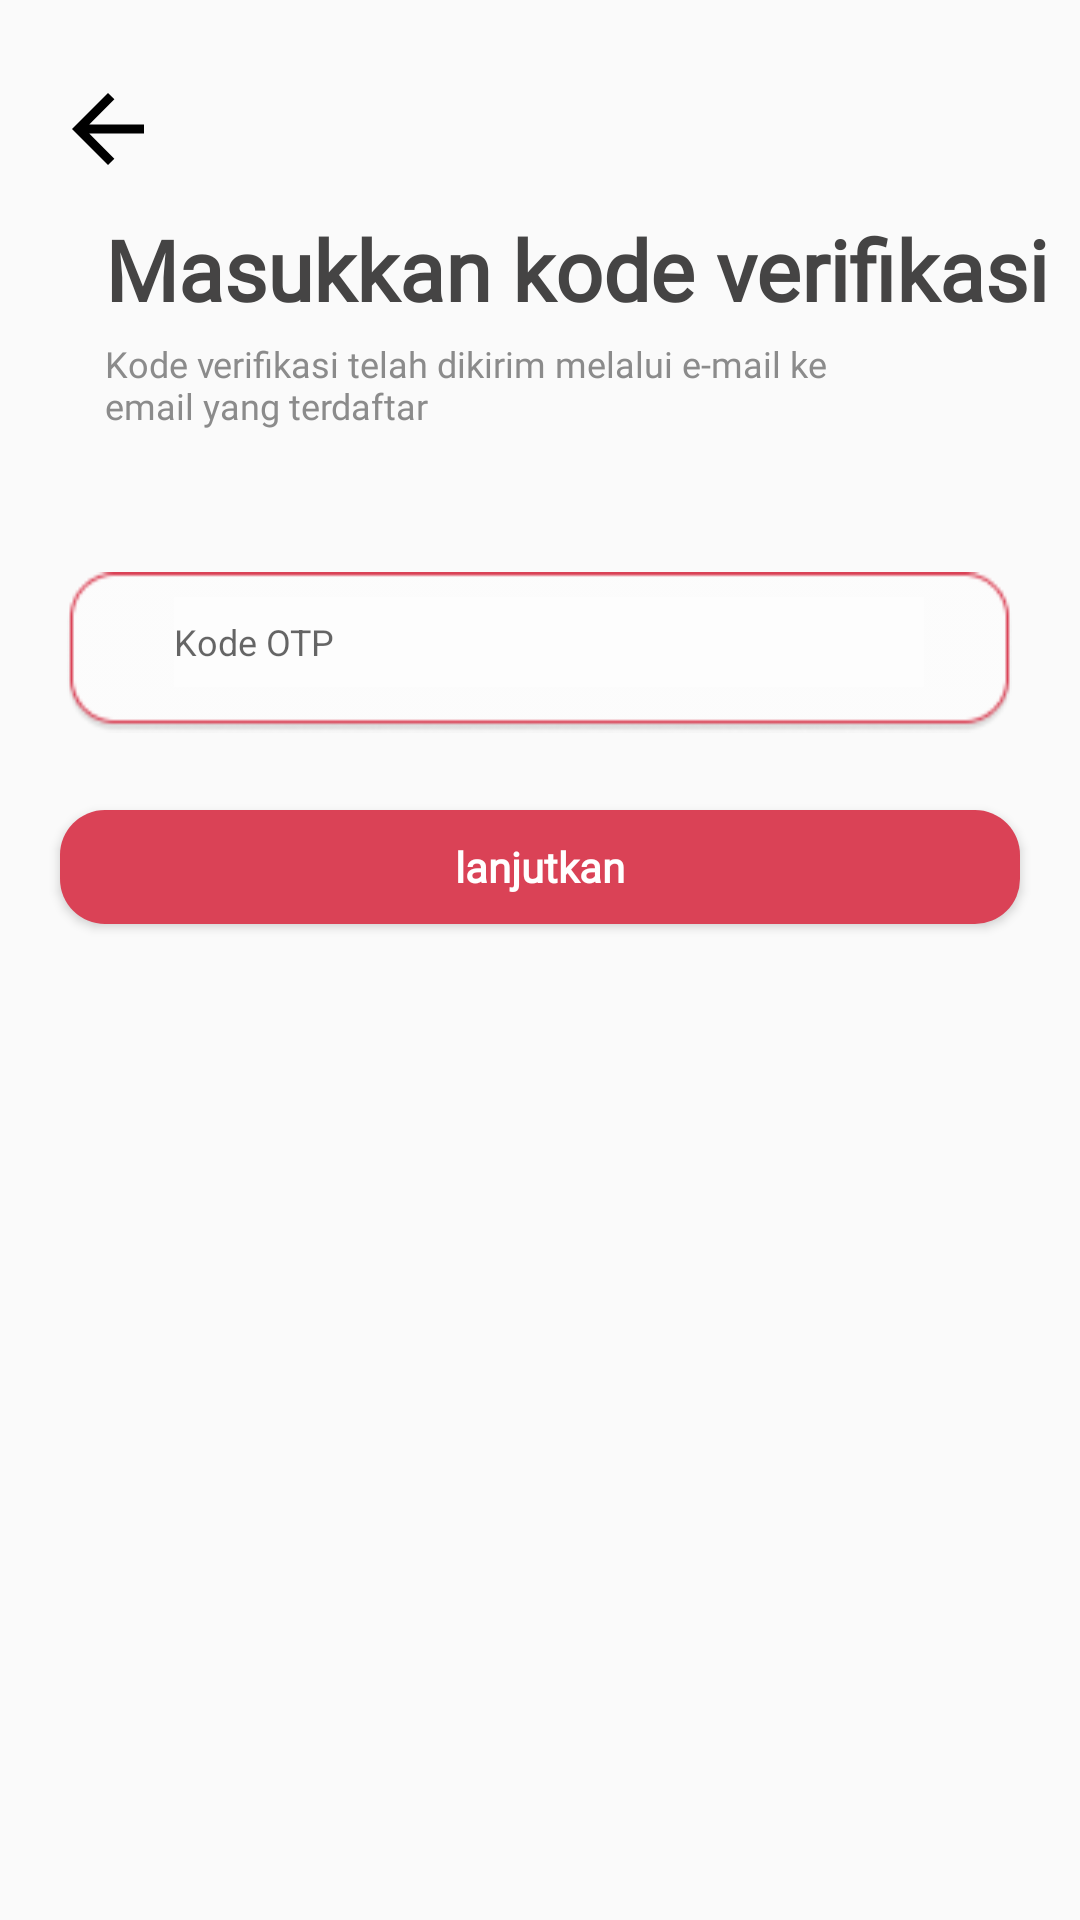

Icon click points for this 1080×1920 phone screenshot, format (x=x, y=y):
back: (x=108, y=129)
